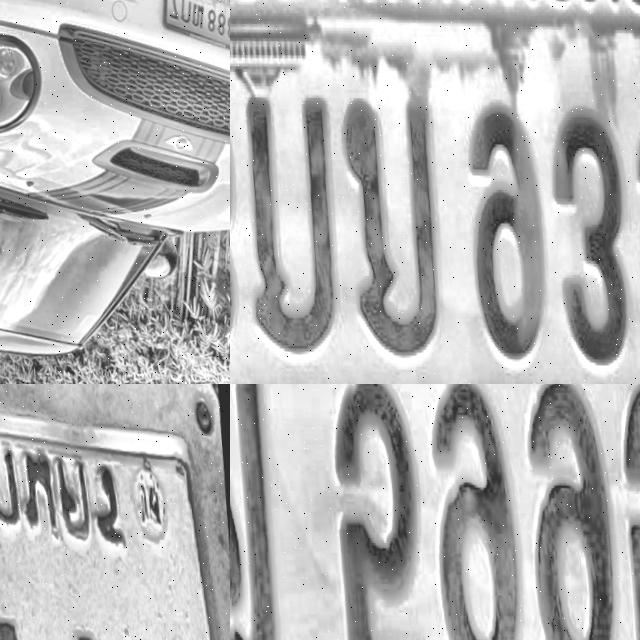license-plate: (230, 0, 640, 384), (230, 384, 640, 640), (0, 384, 230, 640), (155, 0, 230, 53)
